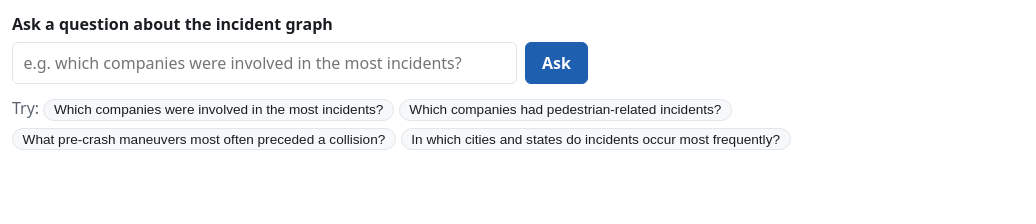
KgAsk › renders a subtle notice on a fallback result
Type "??" into the field labelled "Ask a question about the incident graph" at (265, 63), box [12,42,517,84]
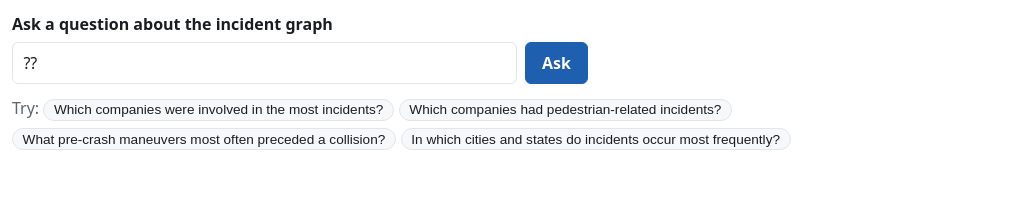
Submit the form, box [12,13,588,84]
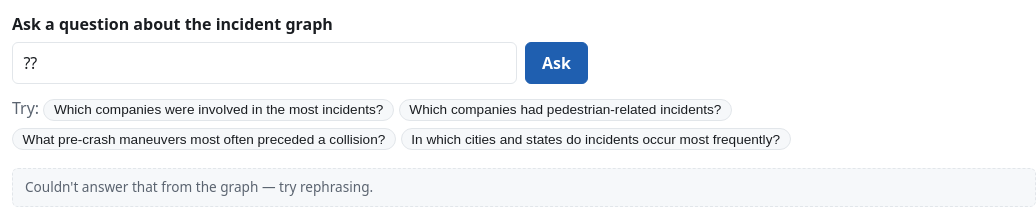
Check: the text "Couldn't answer that from the graph — try rephrasing." is shown, box [12,168,1035,207]
Check: the text "Couldn't answer that" is shown, box [25,177,373,196]
